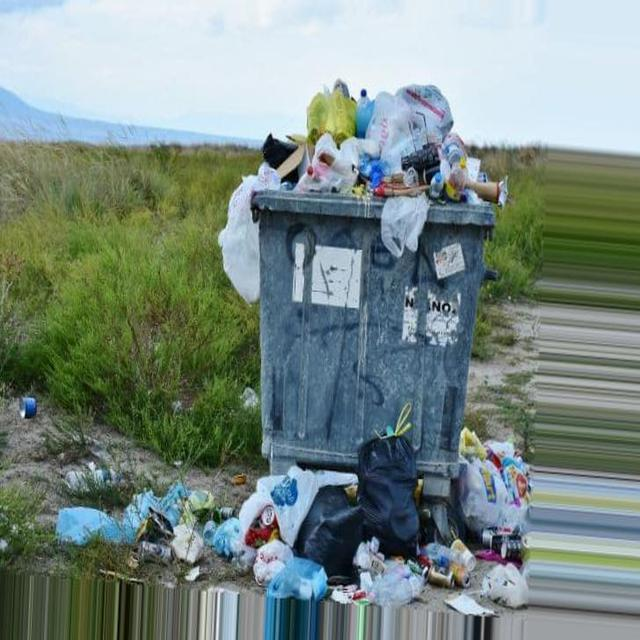garbage: (248, 402, 531, 604), (237, 71, 515, 233), (14, 476, 247, 572)
